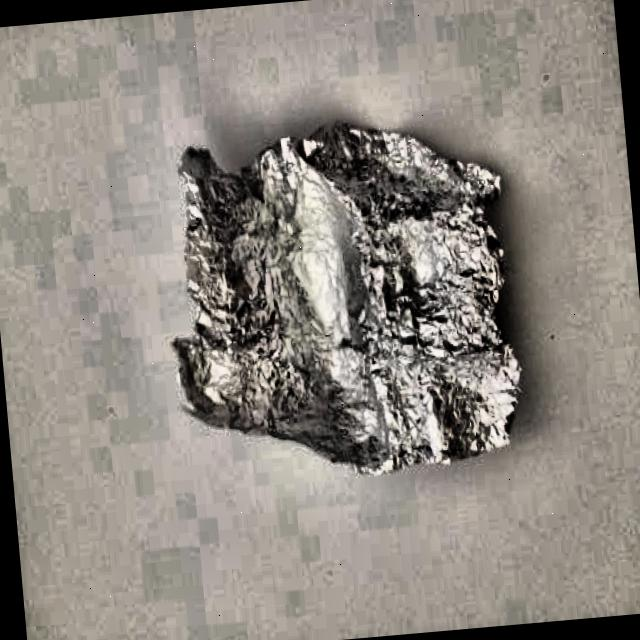metal: (154, 105, 524, 489)
